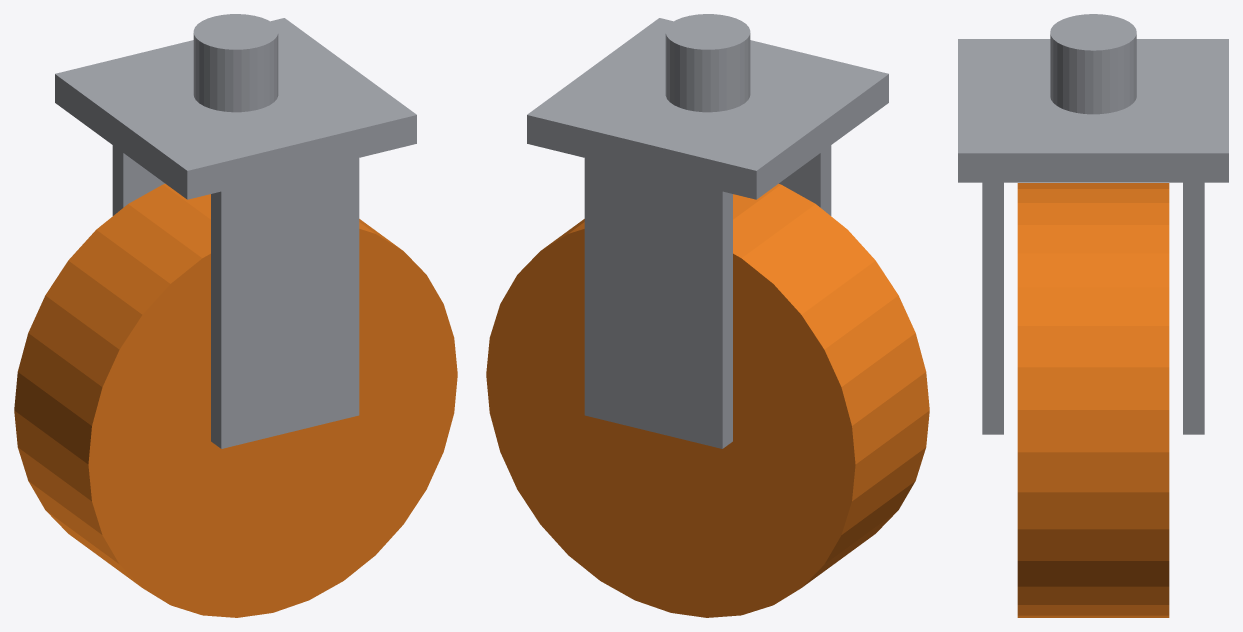
File: caster.dae
3 views of the same model, side by side, from view 1: azimuth 30°, elevation 25°; view 2: azimuth 150°, elevation 25°; view 3: azimuth 270°, elevation 25° (orthographic). The views are drawn at different scales.
Visible parts, largest first — view 1: n0, n1; view 2: n0, n1; view 3: n0, n1.
Boxes of the visible parts, <box> form: n0: <box>14,183,457,617</box>; n1: <box>55,14,416,448</box>; n0: <box>486,183,929,617</box>; n1: <box>527,14,888,448</box>; n0: <box>1017,183,1169,617</box>; n1: <box>958,14,1228,434</box>.
Bounding box in the file's own units: 0.0804 × 0.05 × 0.1152.
